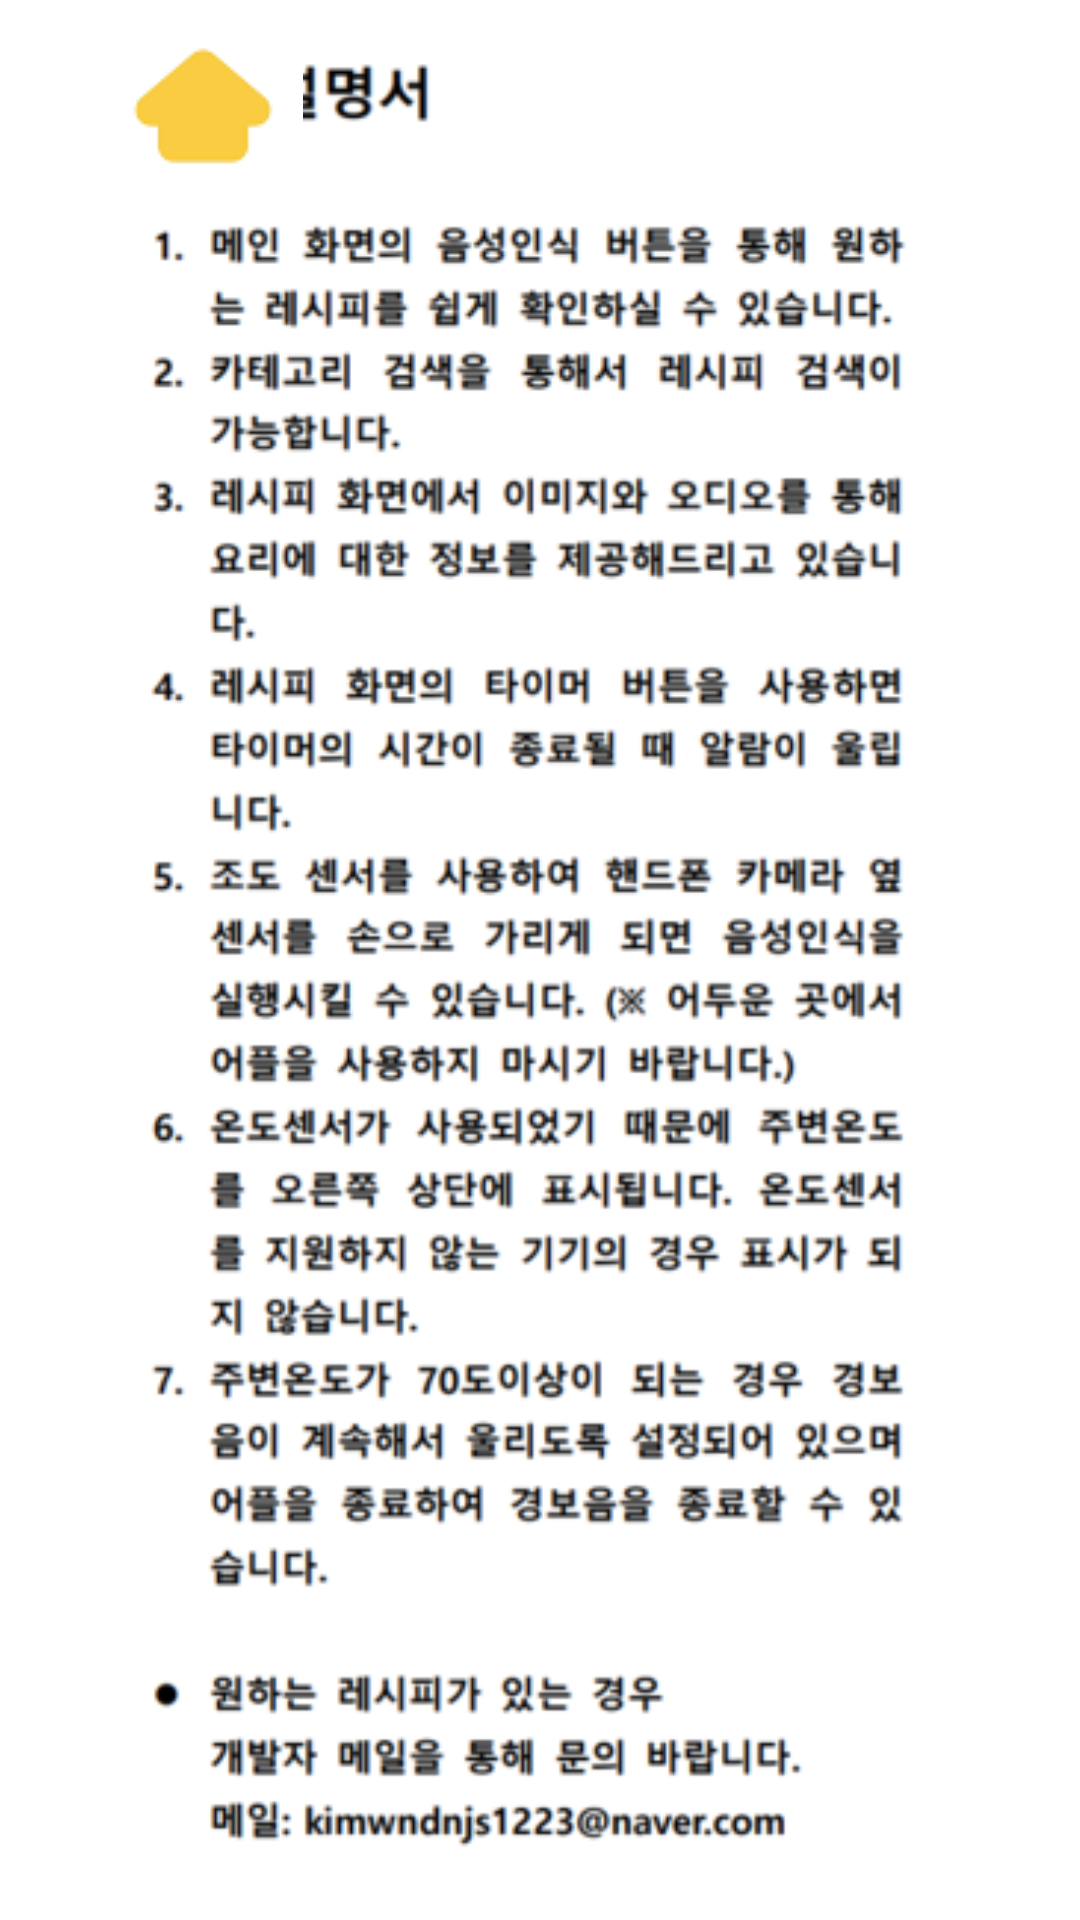

Icons on this 1080 x 1920 Android screen, each with the point to tap as point (x, y):
home: point (203, 106)
